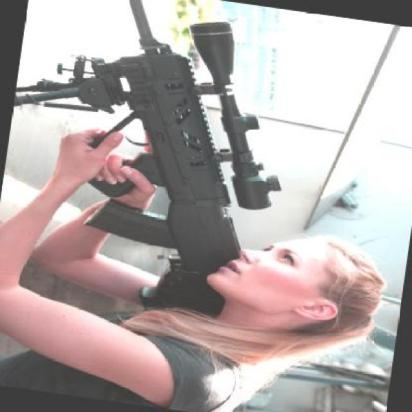Gun: (101, 0, 275, 313)
